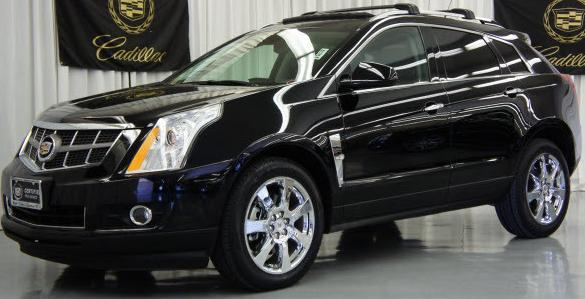front_view: (1, 90, 251, 275)
headlight: (116, 97, 232, 183)
side_glass: (316, 21, 546, 105)
